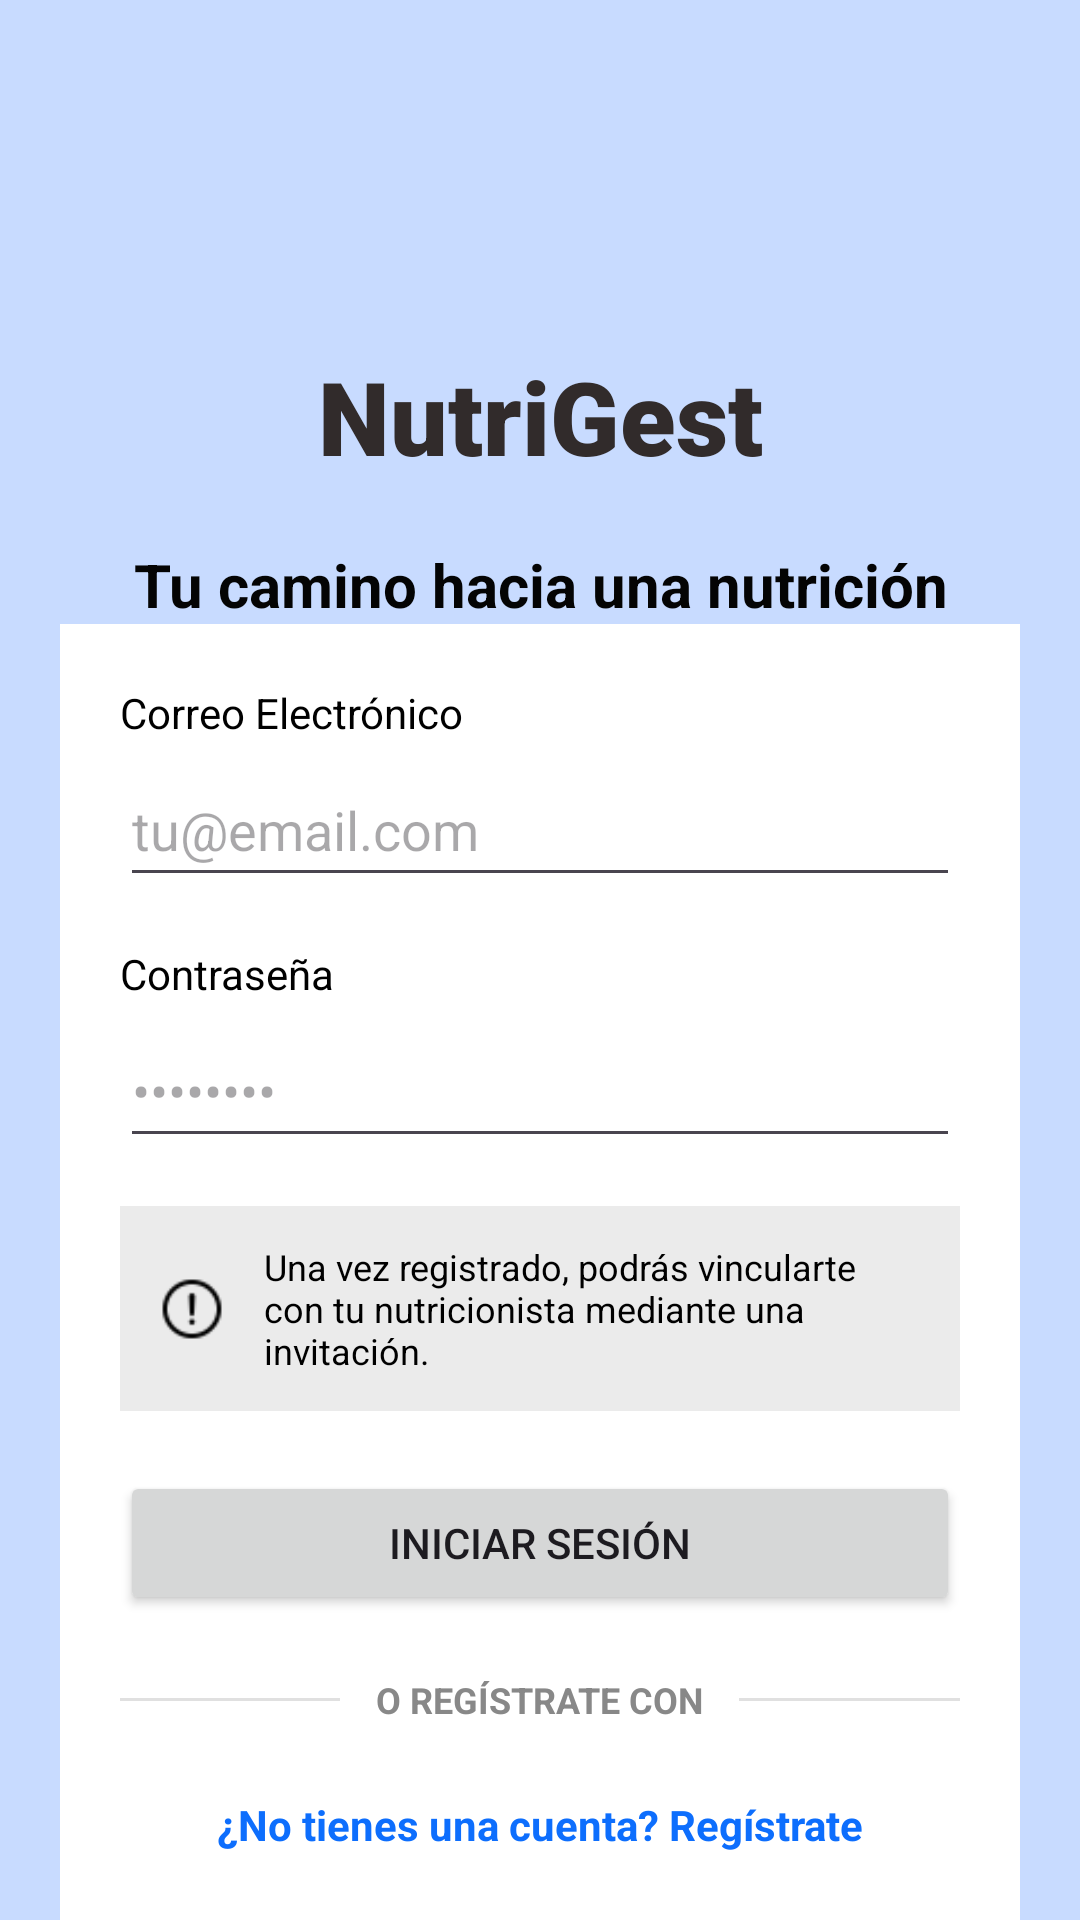

Point at icon controls on the screen. Image size 1080×1920, points as (x,y).
alert: (192,1309)
